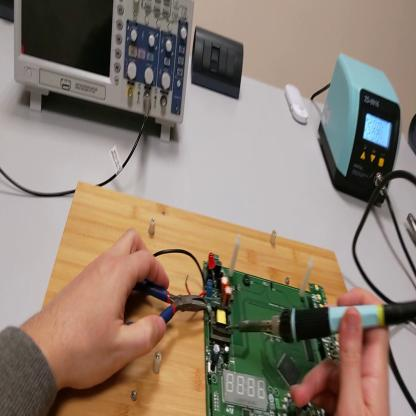hand: (52, 228, 172, 391), (290, 286, 391, 416)
low voltage board: (156, 234, 344, 416)
oscilloscope: (15, 2, 191, 144)
pliers: (129, 280, 214, 325), (407, 212, 416, 245)
socket: (1, 1, 16, 22), (409, 114, 415, 158)
welder probe tip: (228, 296, 414, 342)
welder station: (319, 52, 404, 205)
working area: (35, 182, 347, 413)
